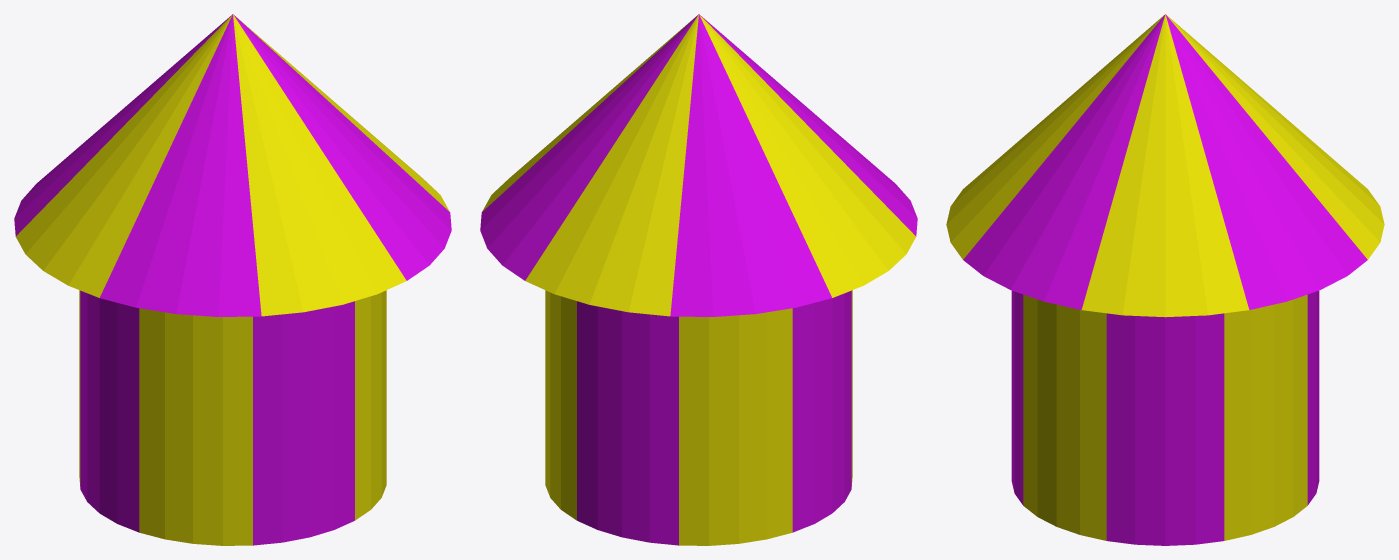
The model's file is Rocket.fbx.
The picture shows the model from 3 angles, left to right: view 1: azimuth 30°, elevation 25°; view 2: azimuth 150°, elevation 25°; view 3: azimuth 270°, elevation 25°; orthographic projection.
Parts seen in each view (by area): view 1: Mesh; view 2: Mesh; view 3: Mesh.
Boxes of the visible parts, <box> form: Mesh: <box>14,14,451,545</box>; Mesh: <box>480,14,917,545</box>; Mesh: <box>946,14,1384,545</box>.
Bounding box in the file's own units: 228 × 268 × 228.
